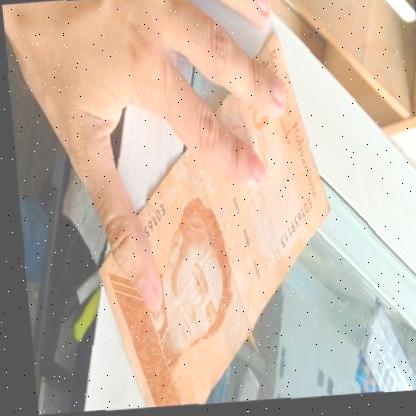twenty-front-vef: (73, 31, 342, 412)
